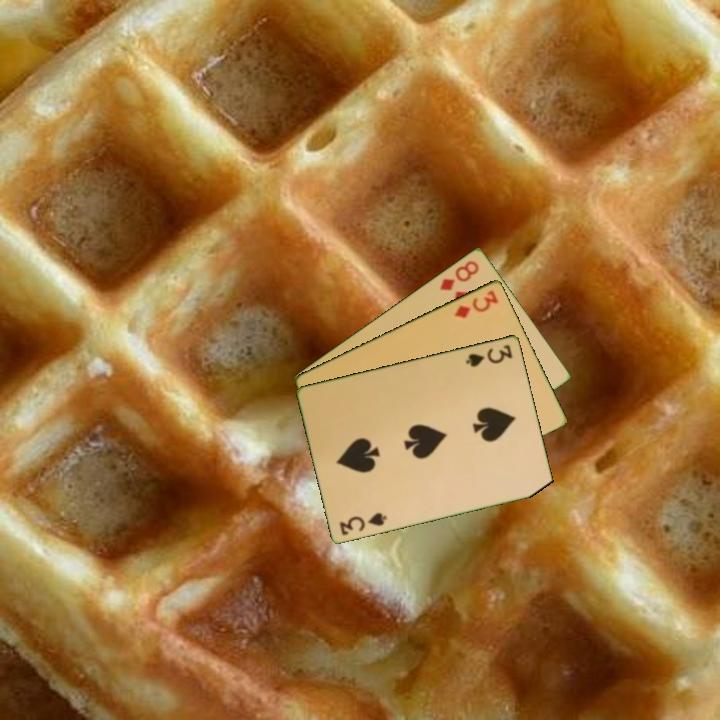3d: (451, 286, 501, 321)
3s: (336, 508, 390, 538), (462, 341, 515, 370)
8d: (436, 256, 482, 293)
